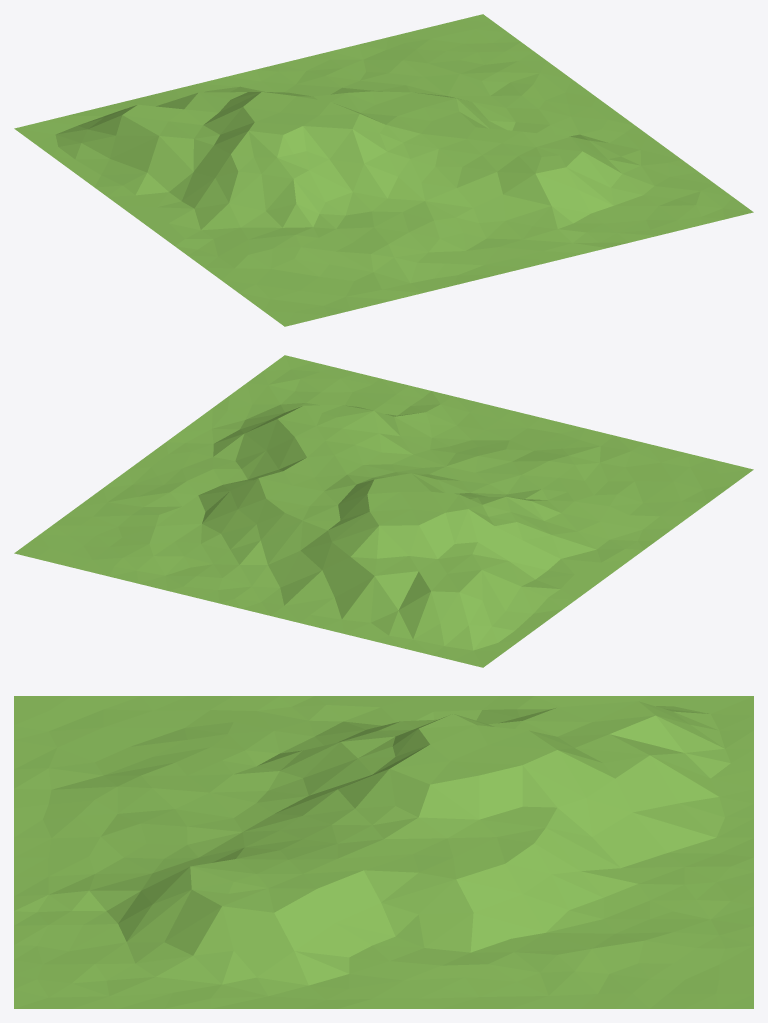
The model's file is MT_Terrain_M_d_12_LOD.fbx.
The picture shows the model from 3 angles, top to bottom: view 1: azimuth 30°, elevation 25°; view 2: azimuth 150°, elevation 25°; view 3: azimuth 270°, elevation 25°; orthographic projection. The views are drawn at different scales.
Parts seen in each view (by area): view 1: MT_Terrain_M_d_12_LOD0; view 2: MT_Terrain_M_d_12_LOD0; view 3: MT_Terrain_M_d_12_LOD0.
Part boxes in pixels (x1,y1,x2,y2): MT_Terrain_M_d_12_LOD0: (14, 14, 753, 326); MT_Terrain_M_d_12_LOD0: (14, 355, 753, 667); MT_Terrain_M_d_12_LOD0: (14, 696, 753, 1008).
Size of what is drawn, in the model's own units: 5000 by 496 by 5000.
